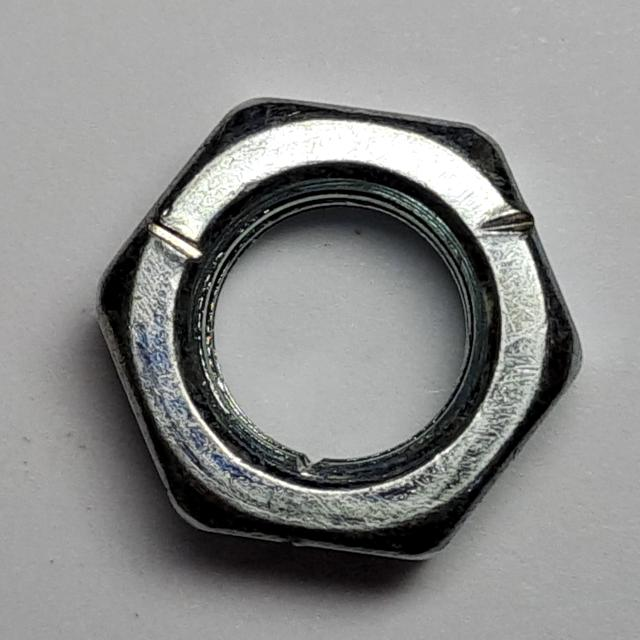Scratches: (79, 85, 595, 576)
